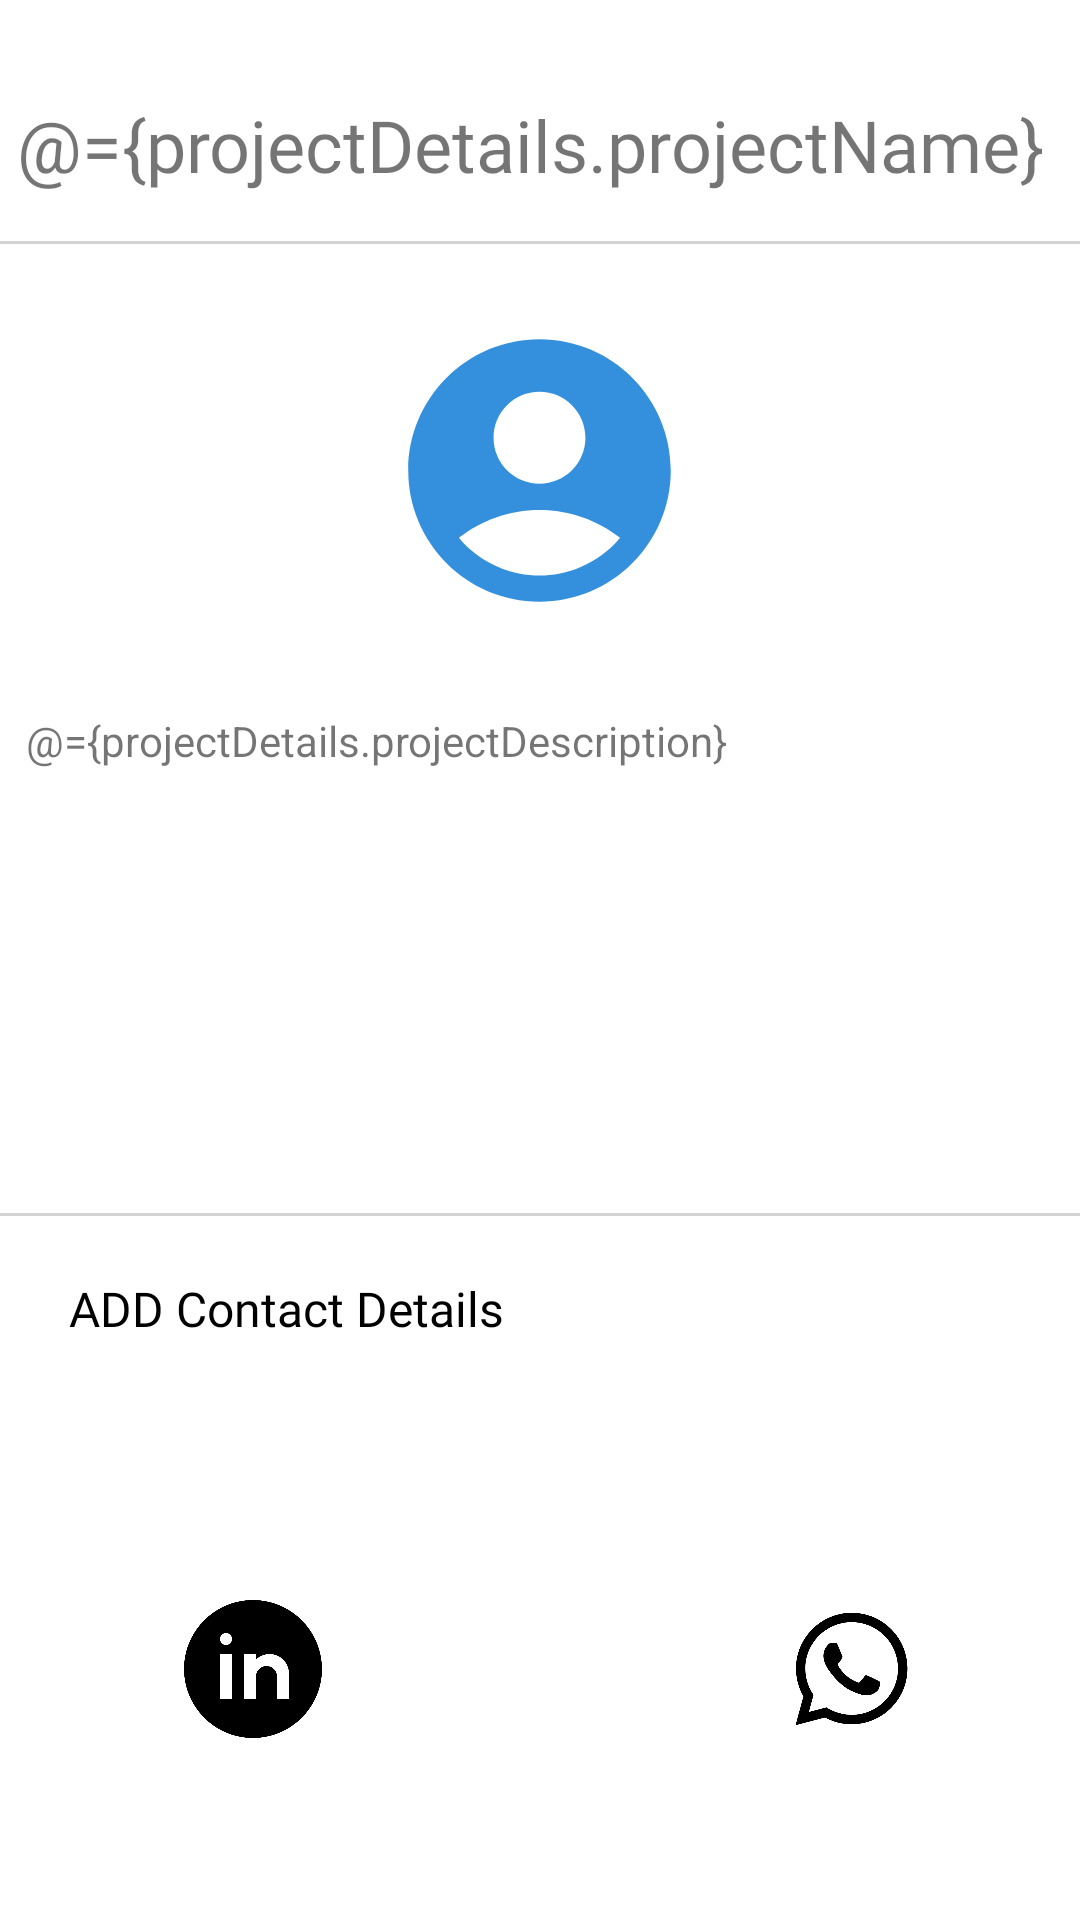

Locate icon controls on the screen. Image size 1080x1920, boxes as (x1, y1, x2, y2).
account circle: (408, 339, 671, 602)
